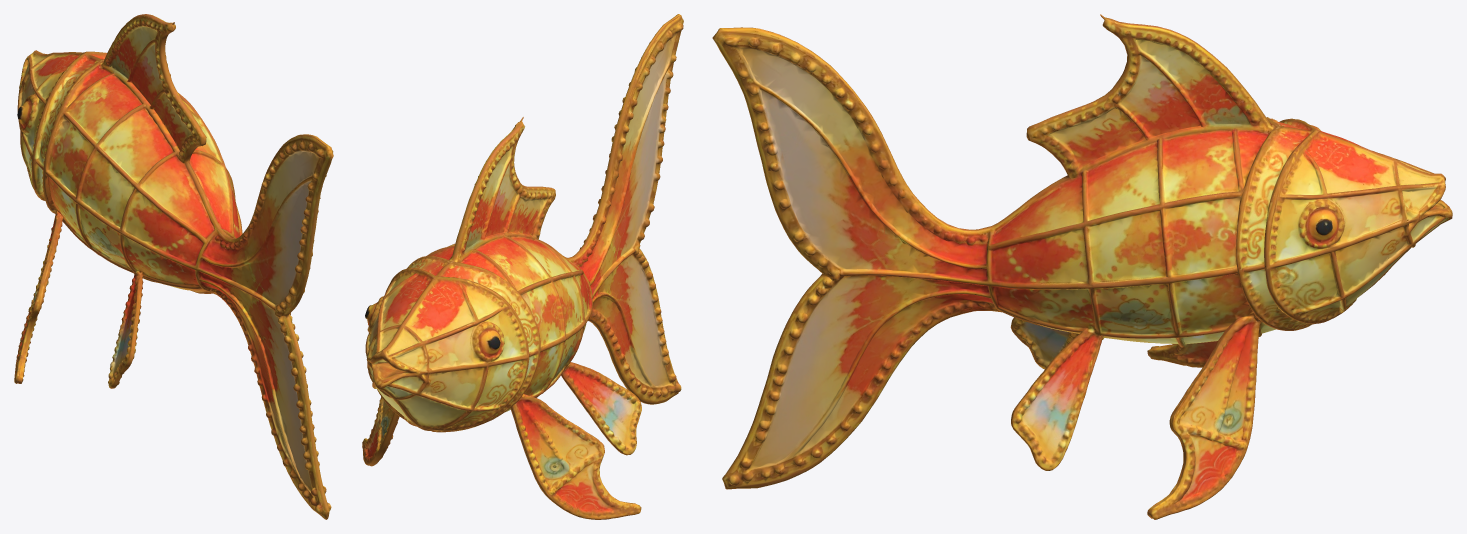
File: 火鲤鱼灯50000.glb
3 renders of one model, left to right at view 1: azimuth 30°, elevation 25°; view 2: azimuth 150°, elevation 25°; view 3: azimuth 270°, elevation 25°, orthographic. The views are drawn at different scales.
Parts seen in each view (by area): view 1: tripo_node_dc2484e3-6b13-465d-a1e4-507782a907ef; view 2: tripo_node_dc2484e3-6b13-465d-a1e4-507782a907ef; view 3: tripo_node_dc2484e3-6b13-465d-a1e4-507782a907ef.
Part boxes in pixels (bbox=[...]): tripo_node_dc2484e3-6b13-465d-a1e4-507782a907ef: bbox=[14, 14, 333, 519]; tripo_node_dc2484e3-6b13-465d-a1e4-507782a907ef: bbox=[362, 14, 683, 519]; tripo_node_dc2484e3-6b13-465d-a1e4-507782a907ef: bbox=[712, 14, 1452, 519].
Size of the model in its own units: 0.5283 by 0.7081 by 1.
Materials: 1 (1 with a texture image).
